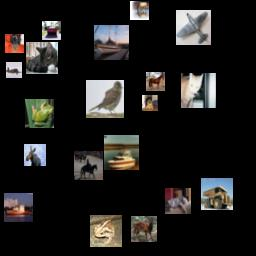airplane: (176, 10, 211, 45), (6, 62, 22, 78)
automobile: (42, 21, 61, 40)
bird: (86, 80, 124, 118)
cat: (181, 73, 216, 108), (26, 42, 58, 74), (165, 188, 191, 214)
deer: (131, 216, 157, 242), (24, 144, 46, 166), (130, 1, 149, 20)
dog: (5, 34, 24, 53), (142, 95, 158, 111)
frog: (90, 215, 122, 247), (25, 99, 54, 128)
ship: (104, 135, 139, 170), (94, 25, 129, 60), (4, 193, 33, 222)
truck: (201, 178, 233, 210)
